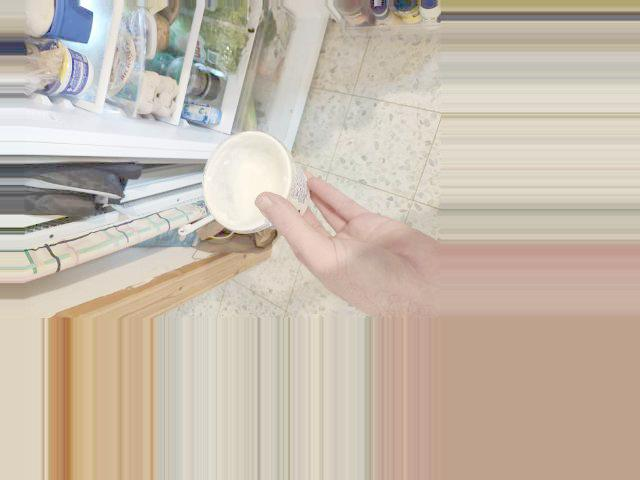cotage: (196, 142, 318, 239)
